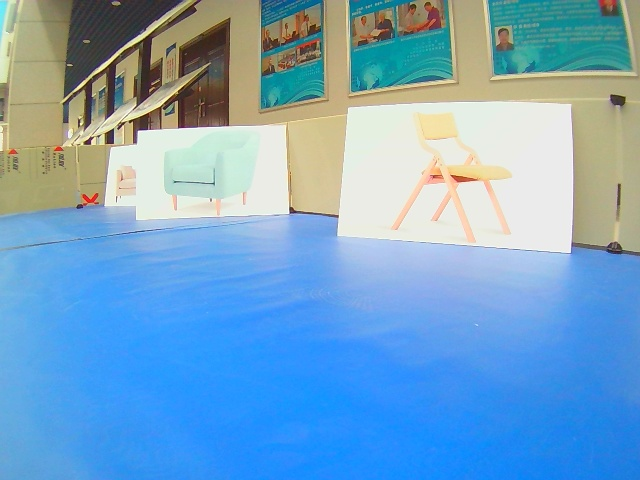sofa: (137, 124, 291, 221)
table: (336, 100, 573, 254)
